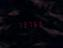one: (18, 20, 22, 28)
seven: (28, 20, 32, 27)
six: (33, 19, 37, 27), (38, 19, 42, 27)
three: (23, 20, 27, 28)
